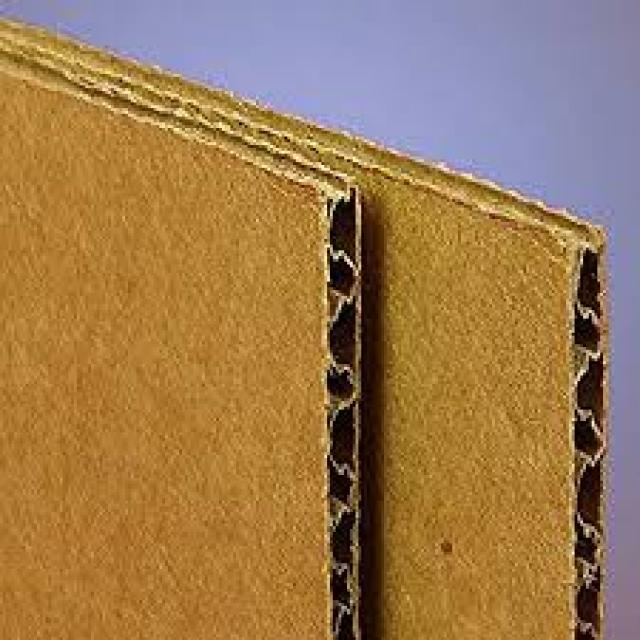cardboard: (0, 12, 612, 638), (0, 34, 361, 637)
